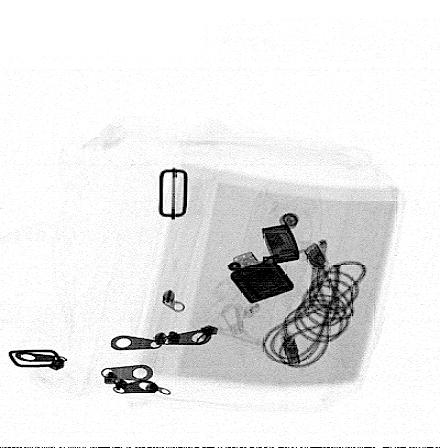Lighter: (226, 223, 300, 304)
